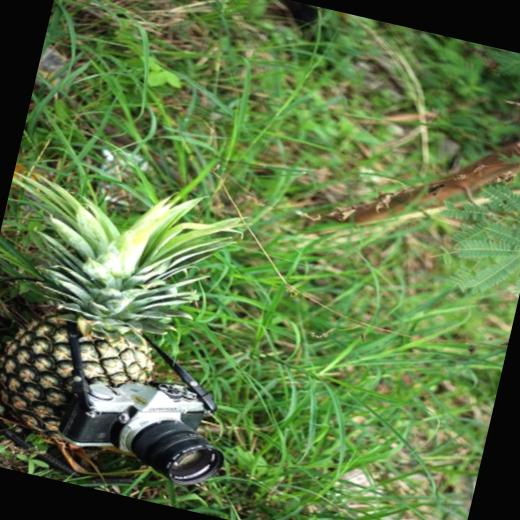Mango: (0, 151, 255, 468)
